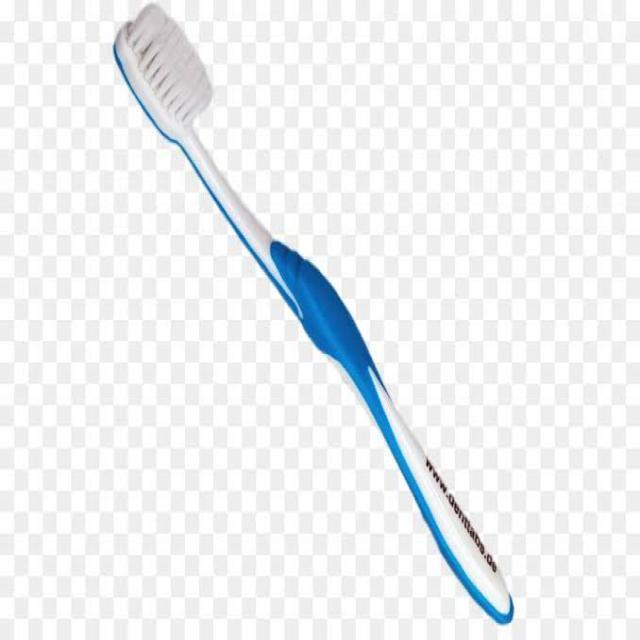toothbrush: (112, 2, 519, 634)
